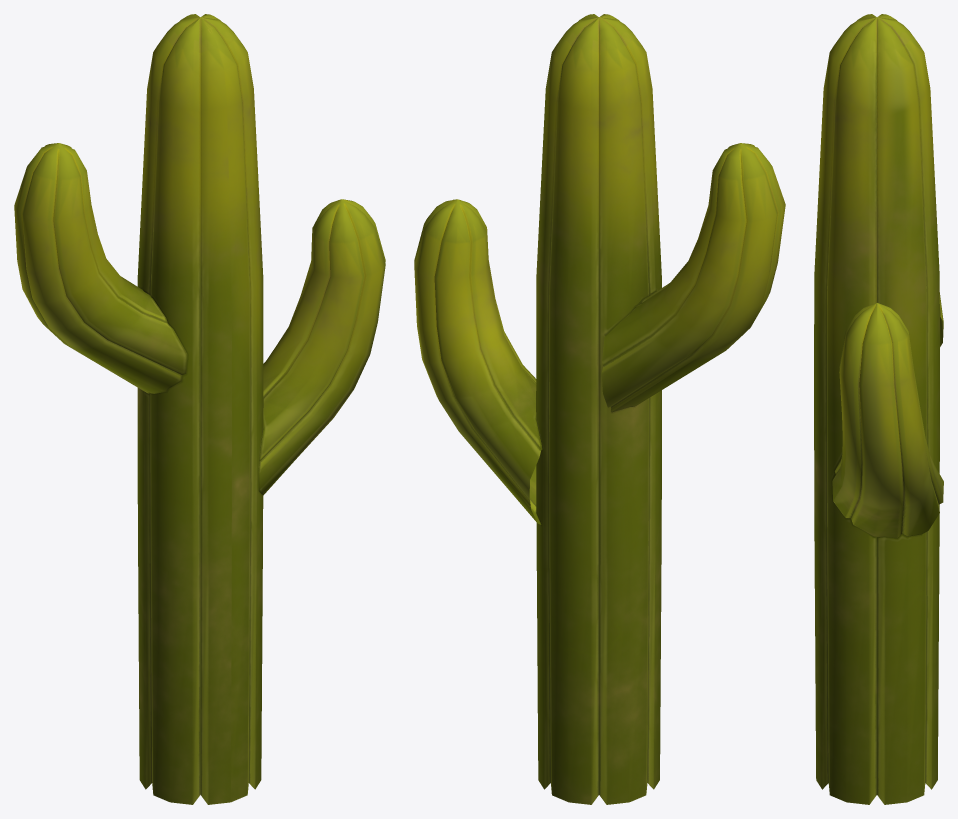
File: cactus_3.fbx
3 views of the same model, side by side, from view 1: azimuth 30°, elevation 25°; view 2: azimuth 150°, elevation 25°; view 3: azimuth 270°, elevation 25° (orthographic).
Visible parts, largest first — view 1: Cylinder.125; view 2: Cylinder.125; view 3: Cylinder.125.
Boxes of the visible parts, bbox=[...] form: Cylinder.125: bbox=[14, 14, 385, 804]; Cylinder.125: bbox=[414, 14, 785, 804]; Cylinder.125: bbox=[814, 14, 943, 804].
Size of the model in its own units: 1.75 by 3.53 by 0.5453.
